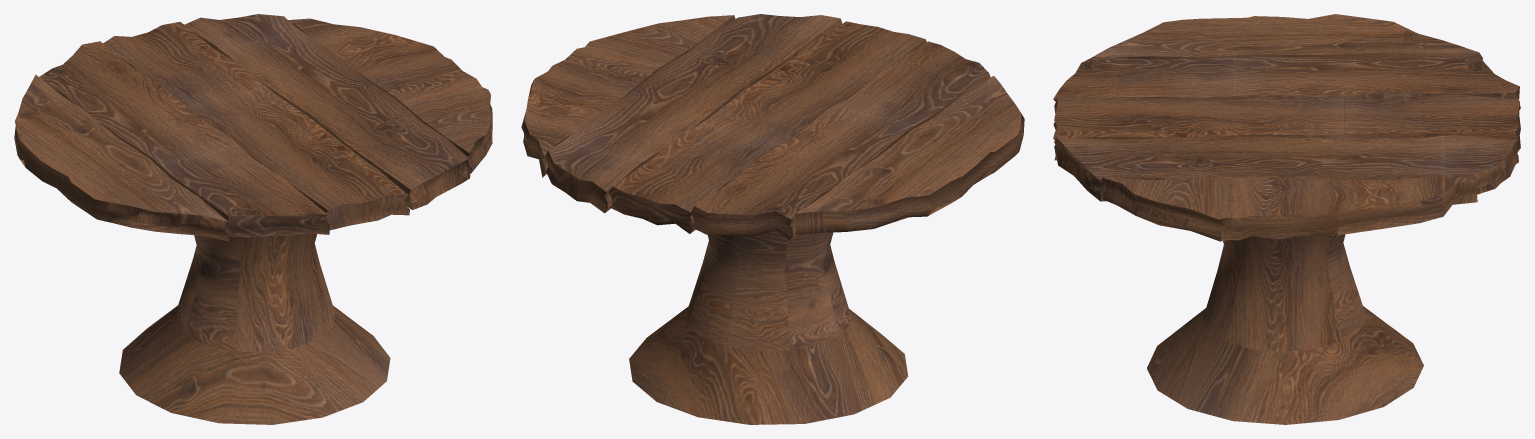
File: tavolo_rotondo.gltf
3 views of the same model, side by side, from view 1: azimuth 30°, elevation 25°; view 2: azimuth 150°, elevation 25°; view 3: azimuth 270°, elevation 25° (orthographic). The views are drawn at different scales.
Parts seen in each view (by area): view 1: tabel 2_temn vert_0; view 2: tabel 2_temn vert_0; view 3: tabel 2_temn vert_0.
Part boxes in pixels (x1,y1,x2,y2): tabel 2_temn vert_0: (14,14,492,424); tabel 2_temn vert_0: (521,14,1024,424); tabel 2_temn vert_0: (1053,14,1520,424).
Bounding box in the file's own units: 19.82 × 11.65 × 19.33.
